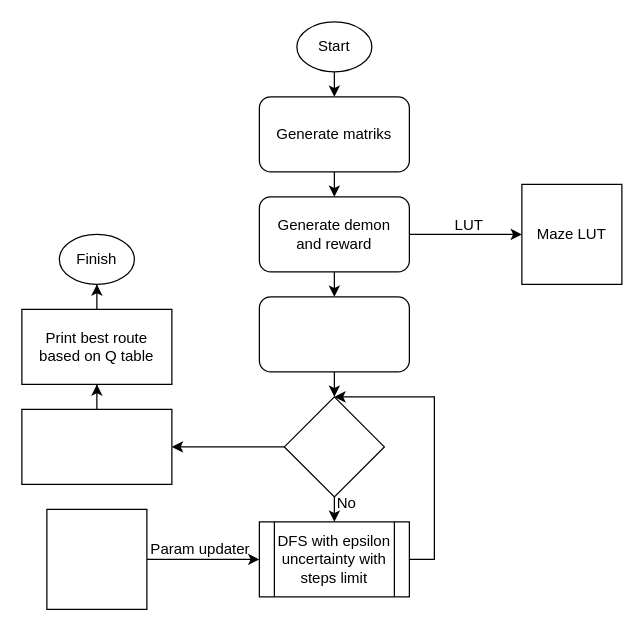
The diagram is 644 pixels wide and 631 high, and some of its shapes have lost their labels. The shapes that lost their labels are listed below. From the top down, each one's centre as x and y in pixels, then its label:
the point at 333,334: Initialize maze and starting point
the point at 96,446: Print Q table
the point at 333,446: Episode < limit?
the point at 96,558: Q table
